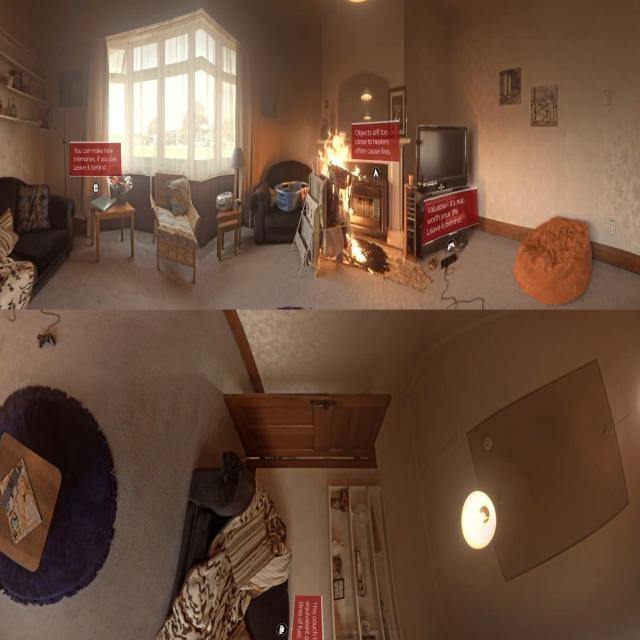smoke: (318, 125, 368, 265)
